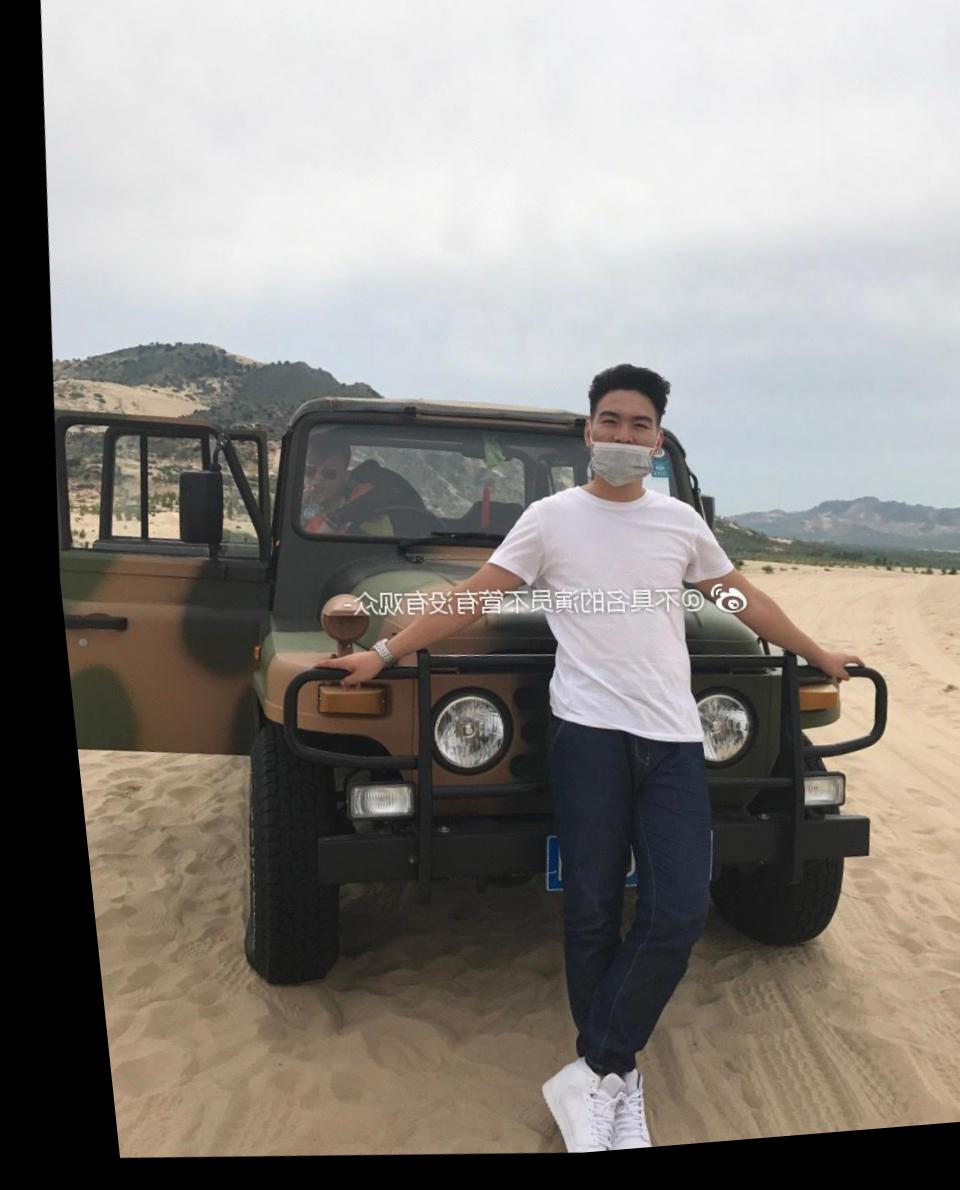NONE: (291, 461, 333, 505)
WRONG: (572, 415, 659, 500)
